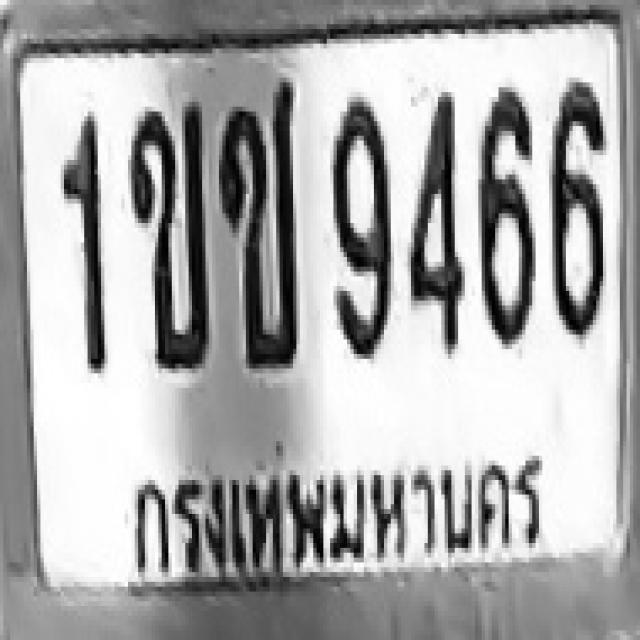1: (60, 109, 104, 376)
11KhorKhai: (126, 99, 207, 366)
19ChorChang: (219, 75, 296, 366)
4: (407, 85, 465, 351)
6: (477, 83, 534, 344), (549, 78, 603, 334)
9: (330, 90, 391, 356)
Bangkok: (118, 428, 552, 584)
